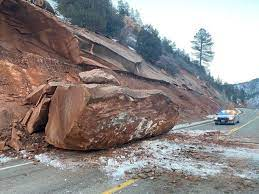car: (215, 107, 241, 128)
obstacle: (46, 80, 187, 152)
